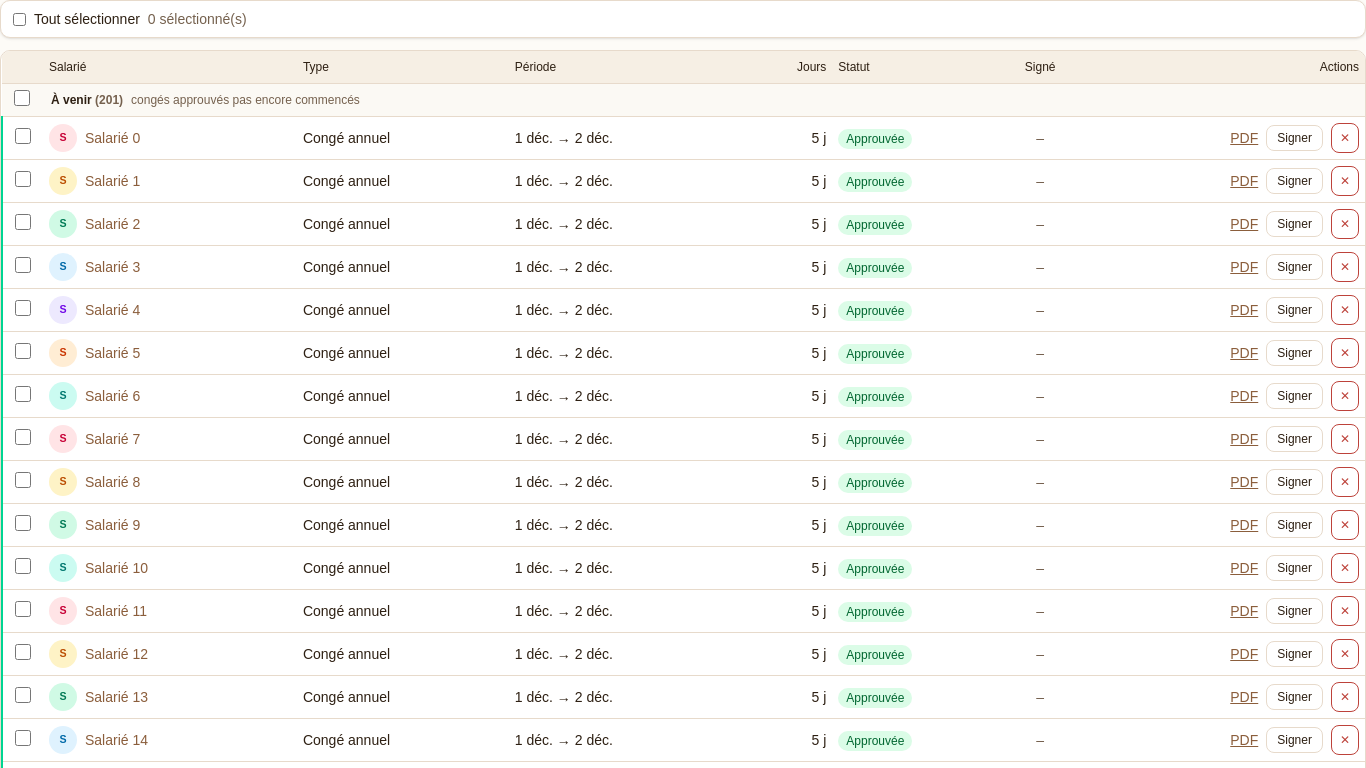
Test: actions groupées › Supprimer en lot : au-delà de 200 cochées, le bouton est désactivé et dit pourquoi
This screenshot has width=1366, height=768.
Click the checkbox named "Sélectionner toute la section À venir": coordinates (22, 98) x1=14 y1=90 x2=30 y2=106
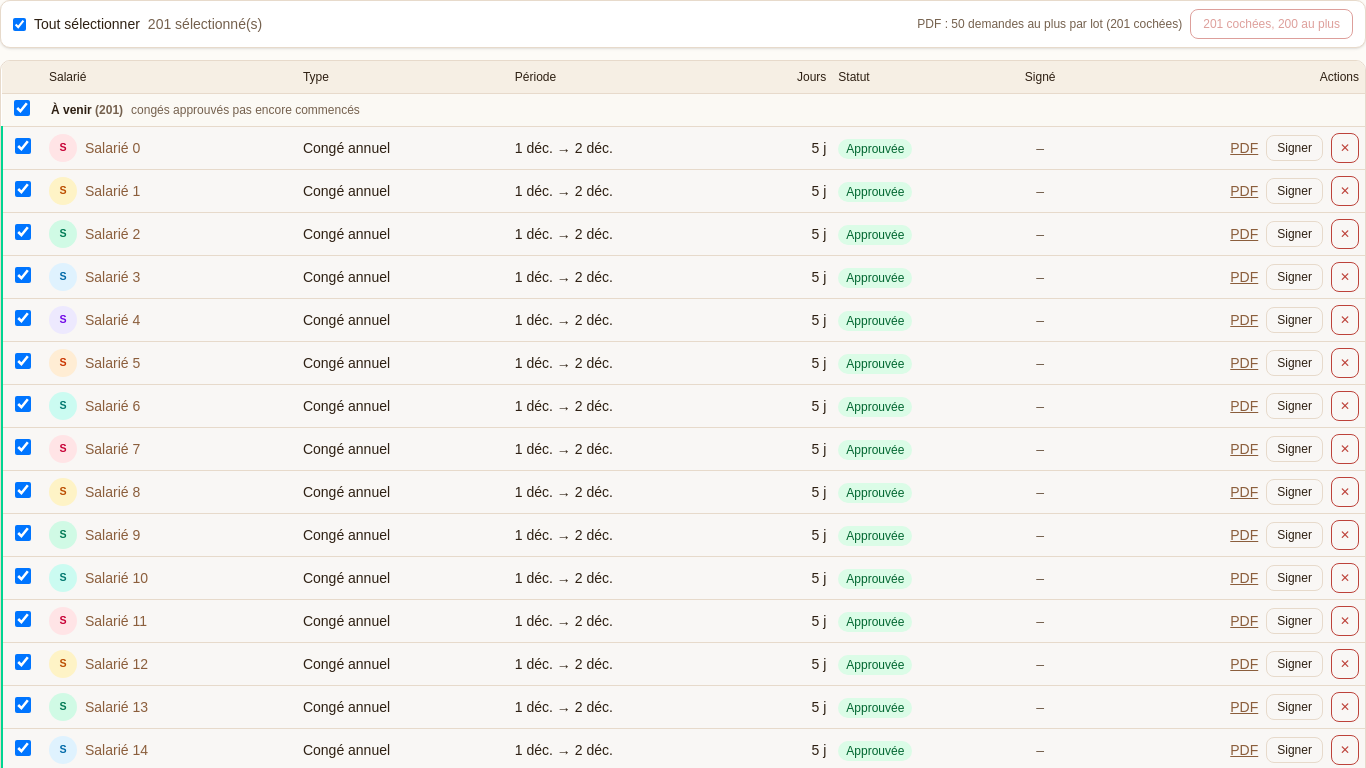
Now the button "201 cochées, 200 au plus" is disabled, box x1=1190 y1=9 x2=1353 y2=39
